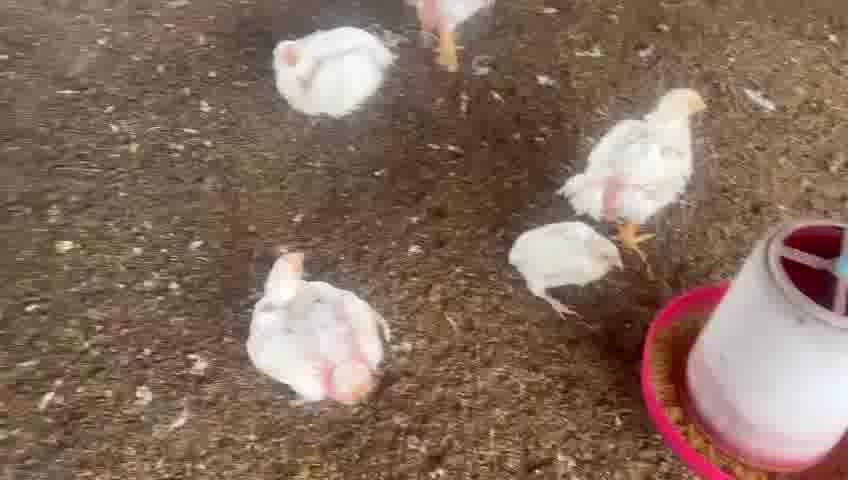AbNormal: (242, 250, 391, 406), (511, 219, 626, 320), (274, 25, 389, 115)
Normal: (580, 83, 705, 258)
